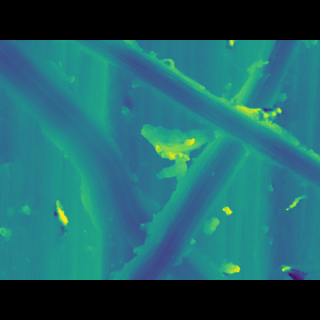Loch: (0, 70, 226, 251), (107, 69, 303, 249), (69, 67, 319, 182)
